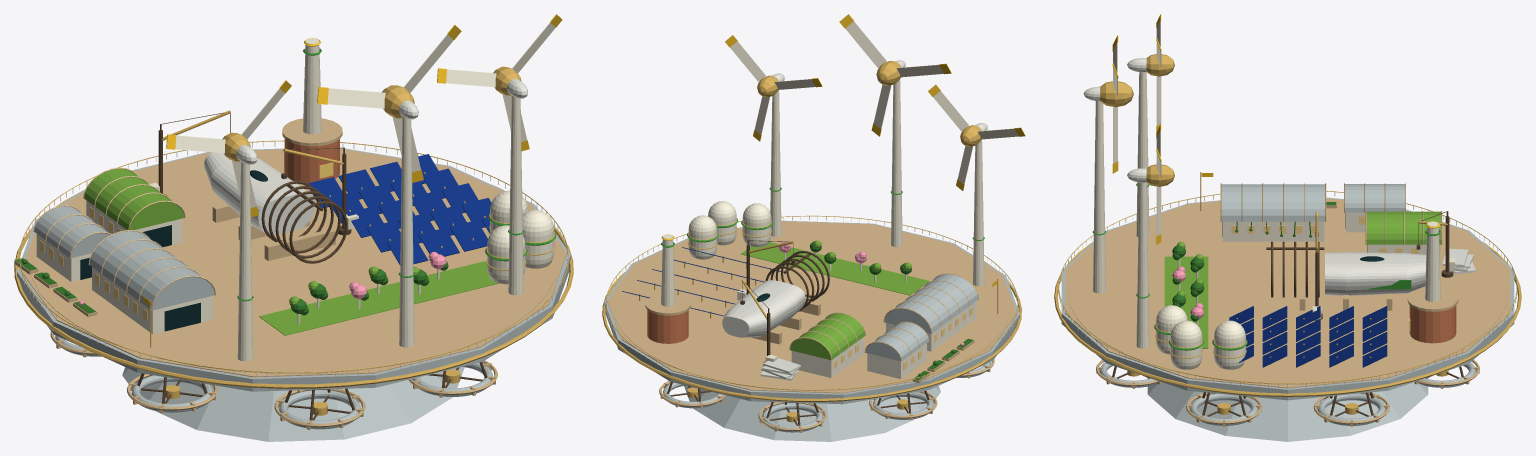
The model's file is station_industrial.obj.
3 views of the same model, side by side, from view 1: azimuth 30°, elevation 25°; view 2: azimuth 150°, elevation 25°; view 3: azimuth 270°, elevation 25° (orthographic). The views are drawn at different scales.
Visible parts, largest first — view 1: station_industrial; view 2: station_industrial; view 3: station_industrial.
Part boxes in pixels (box(x1,y1,x2,y2)): station_industrial: box(14, 14, 573, 441); station_industrial: box(602, 14, 1025, 441); station_industrial: box(1054, 14, 1521, 441).
Size of the model in its own units: 1400 by 1152 by 1400.
1 material, 1 textured.
